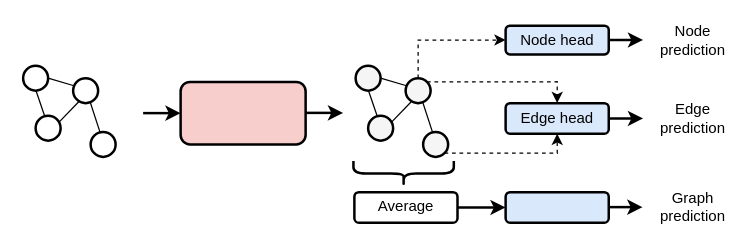
The diagram is 751 pixels wide and 248 high, and some of its shapes have lost their labels. The box of each missing label's shape, as (x1, y1, x2, y2) in pixels:
GCN Backbone: (179, 80, 306, 145)
Graph head: (504, 190, 609, 223)
